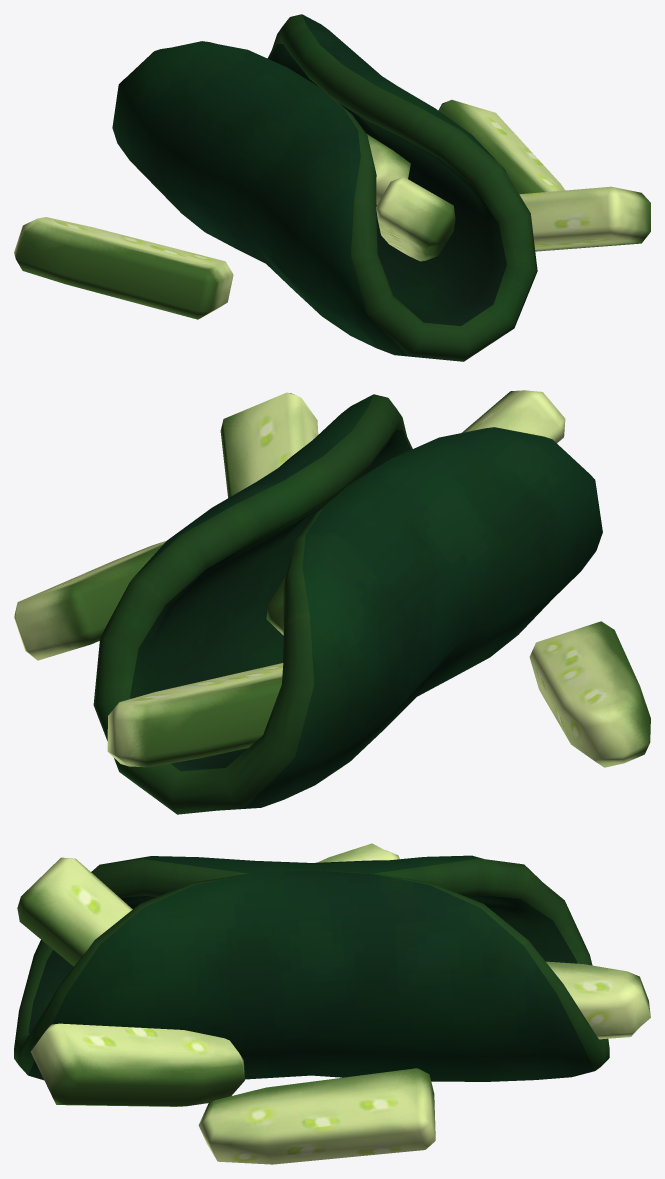
Rendered from Seaweed_Cucumber.fbx.
The picture shows the model from 3 angles, top to bottom: view 1: azimuth 30°, elevation 25°; view 2: azimuth 150°, elevation 25°; view 3: azimuth 270°, elevation 25°; orthographic projection. The views are drawn at different scales.
Visible parts, largest first — view 1: plated_seaweed_cucumber_01; view 2: plated_seaweed_cucumber_01; view 3: plated_seaweed_cucumber_01.
Part boxes in pixels (bbox=[...]): plated_seaweed_cucumber_01: bbox=[14, 14, 650, 361]; plated_seaweed_cucumber_01: bbox=[14, 390, 650, 814]; plated_seaweed_cucumber_01: bbox=[14, 843, 650, 1164].
Bounding box in the file's own units: 87.5 × 34.43 × 90.37.
